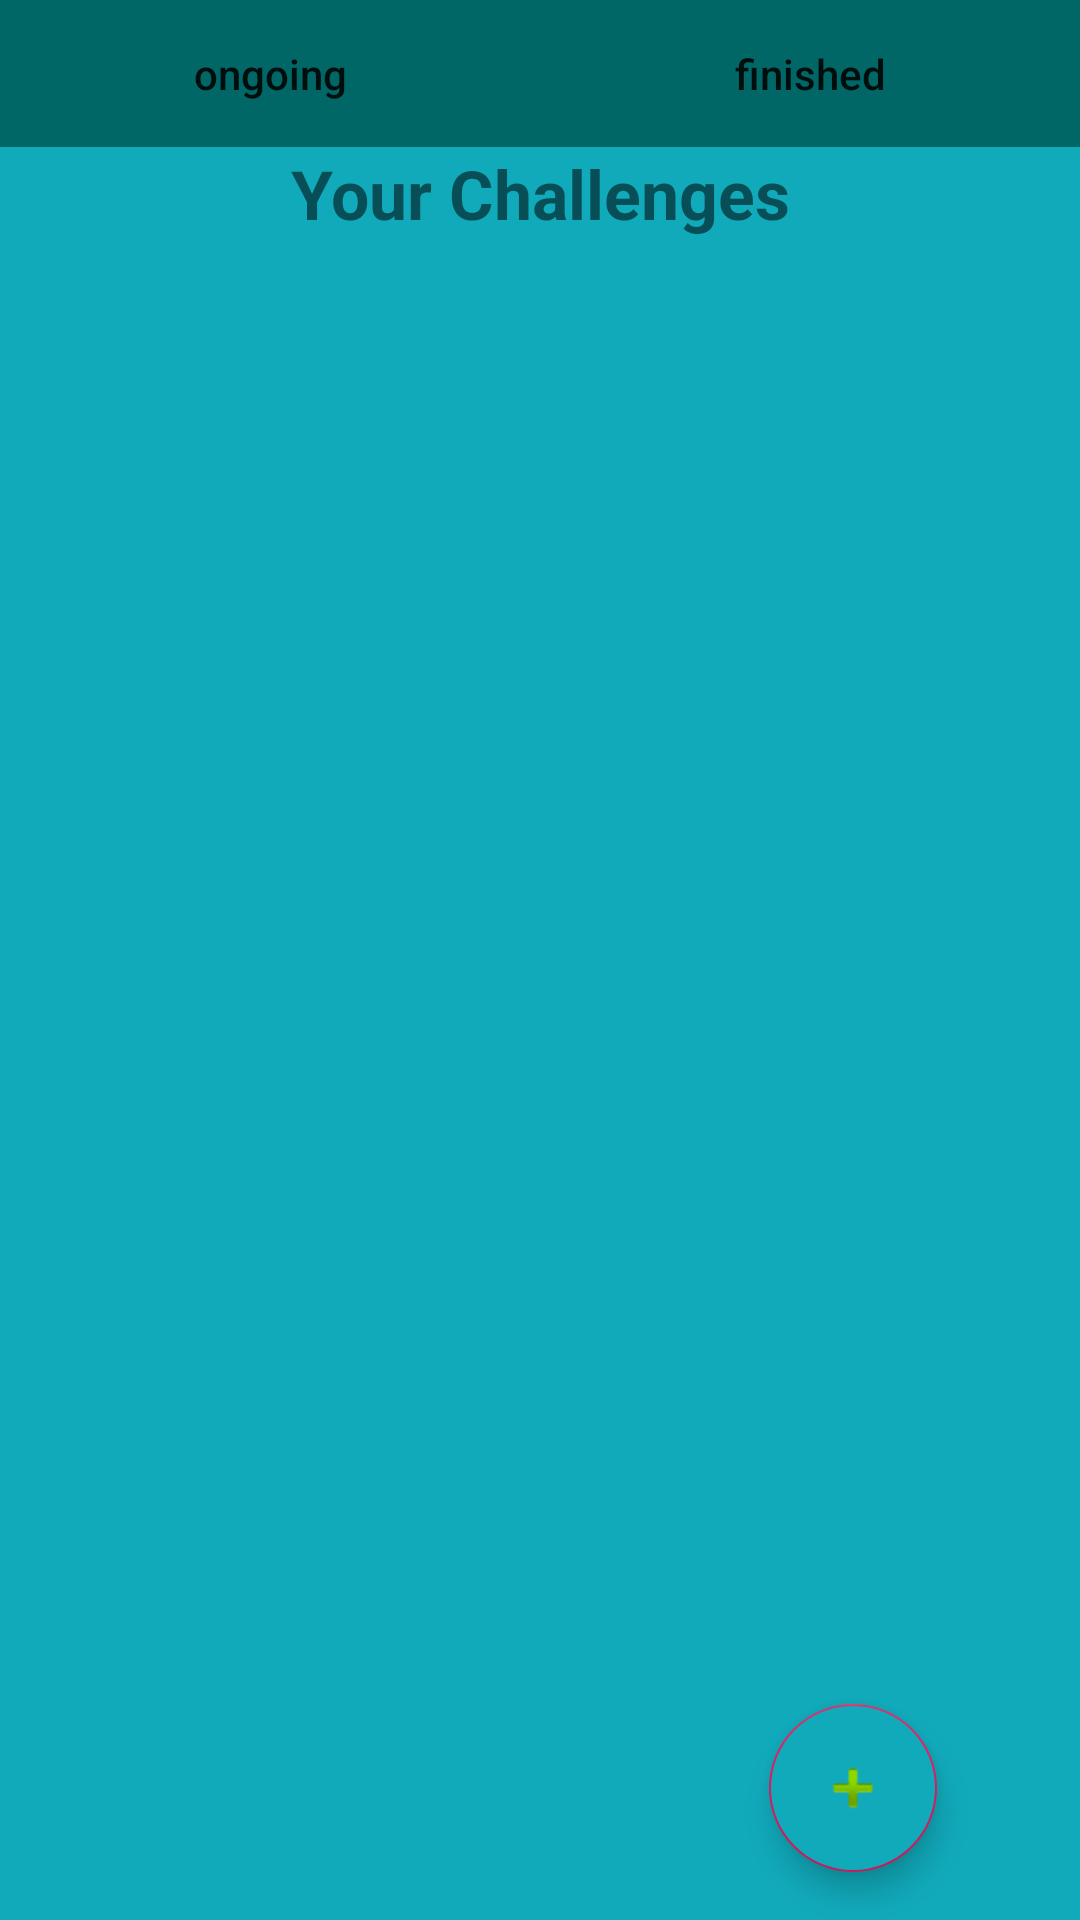

Icon bounding boxes for this 1080 × 1920 phone screenshot, format (x1, y1, x2, y2):
add: (769, 1704, 937, 1872)
